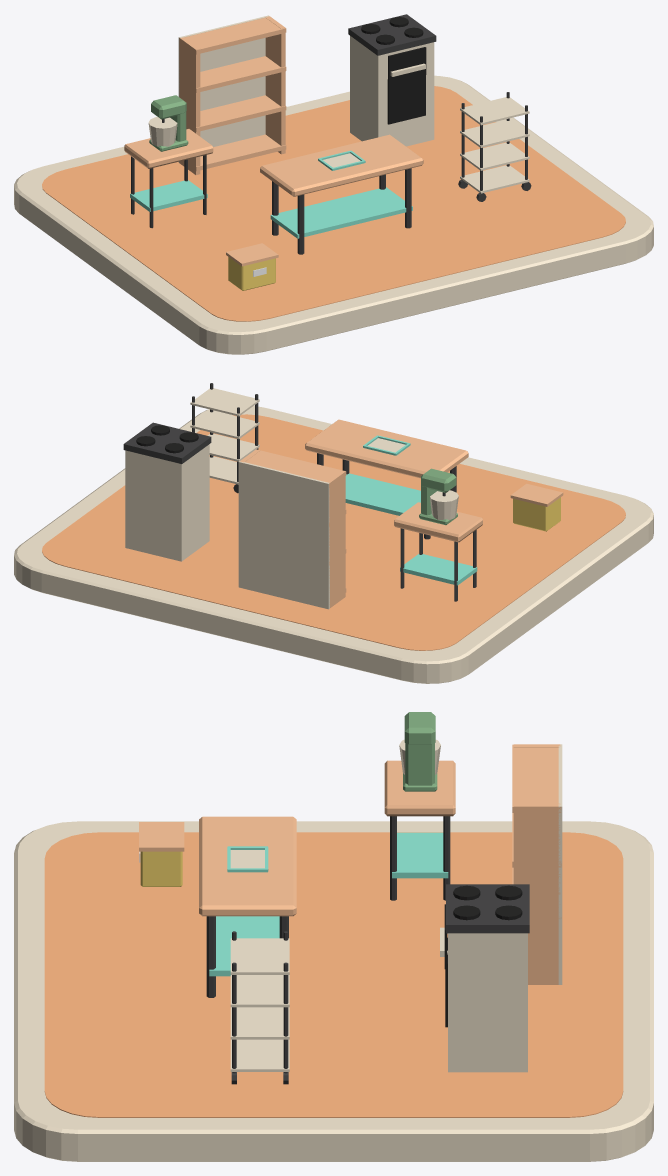
The model's file is room.fbx.
3 renders of one model, top to bottom at view 1: azimuth 30°, elevation 25°; view 2: azimuth 150°, elevation 25°; view 3: azimuth 270°, elevation 25°, orthographic. The views are drawn at different scales.
Parts seen in each view (by area): view 1: COM-02 Floor Surface, COM-01 Rounded Base Direct, Stove, Worktop, Back, Lower shelf, Side.001, Side, Shelf.003, Hob, Worktop.001, Shelf.001 (+13 smaller); view 2: COM-02 Floor Surface, COM-01 Rounded Base Direct, Back, Stove, Worktop, Lower shelf, Side, Hob, Worktop.001, Shelf.003, Lower shelf.001, Box (+7 smaller); view 3: COM-02 Floor Surface, COM-01 Rounded Base Direct, Stove, Worktop, Side.001, Worktop.001, Hob, Shelf.003, Lower shelf.001, Rack shelf.003, Lower shelf, Rack shelf.001 (+9 smaller).
Boxes of the visible parts, x1,y1,x2,y2 form: COM-02 Floor Surface: (42, 86, 625, 321); COM-01 Rounded Base Direct: (14, 75, 653, 354); Stove: (350, 36, 434, 146); Worktop: (260, 134, 423, 196); Back: (178, 15, 269, 163); Lower shelf: (270, 187, 412, 238); Side.001: (265, 16, 285, 154); Side: (179, 37, 200, 174); Shelf.003: (185, 17, 286, 54); Hob: (348, 14, 436, 55); Worktop.001: (124, 129, 213, 168); Shelf.001: (186, 95, 286, 131); COM-02 Floor Surface: (42, 414, 625, 650); COM-01 Rounded Base Direct: (14, 405, 653, 683); Back: (238, 461, 329, 609); Stove: (125, 444, 209, 561); Worktop: (305, 419, 468, 478); Lower shelf: (345, 473, 420, 515); Side: (326, 470, 345, 607); Hob: (123, 422, 211, 463); Worktop.001: (394, 502, 482, 542); Shelf.003: (245, 449, 346, 487); Lower shelf.001: (400, 554, 477, 585); Box: (513, 497, 560, 531); COM-02 Floor Surface: (44, 832, 623, 1117); COM-01 Rounded Base Direct: (14, 821, 653, 1161); Stove: (448, 933, 527, 1072); Worktop: (199, 816, 296, 916); Side.001: (513, 803, 560, 984); Worktop.001: (384, 760, 455, 816); Hob: (446, 884, 529, 933); Shelf.003: (512, 744, 561, 812); Lower shelf.001: (392, 832, 448, 878); Rack shelf.003: (230, 938, 289, 974); Lower shelf: (209, 916, 279, 976); Rack shelf.001: (230, 1007, 289, 1039).
Bounding box in the file's own units: 600 × 190 × 520.
